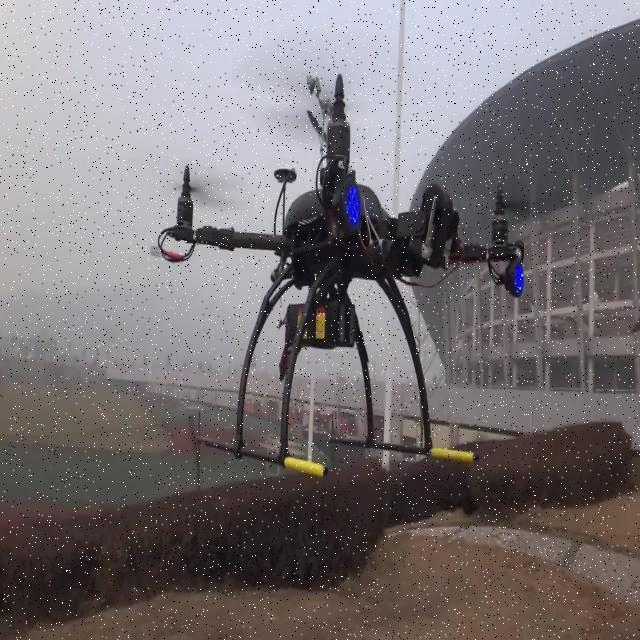UAV: (158, 75, 536, 478)
